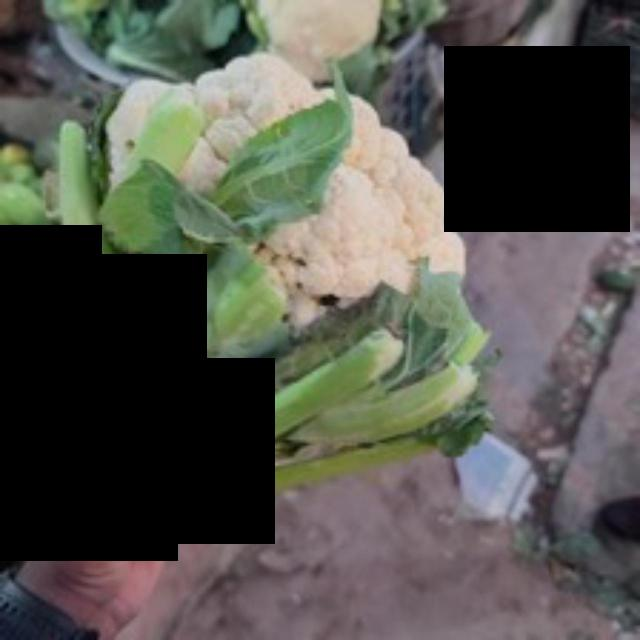cauliflower: (90, 42, 502, 332)
